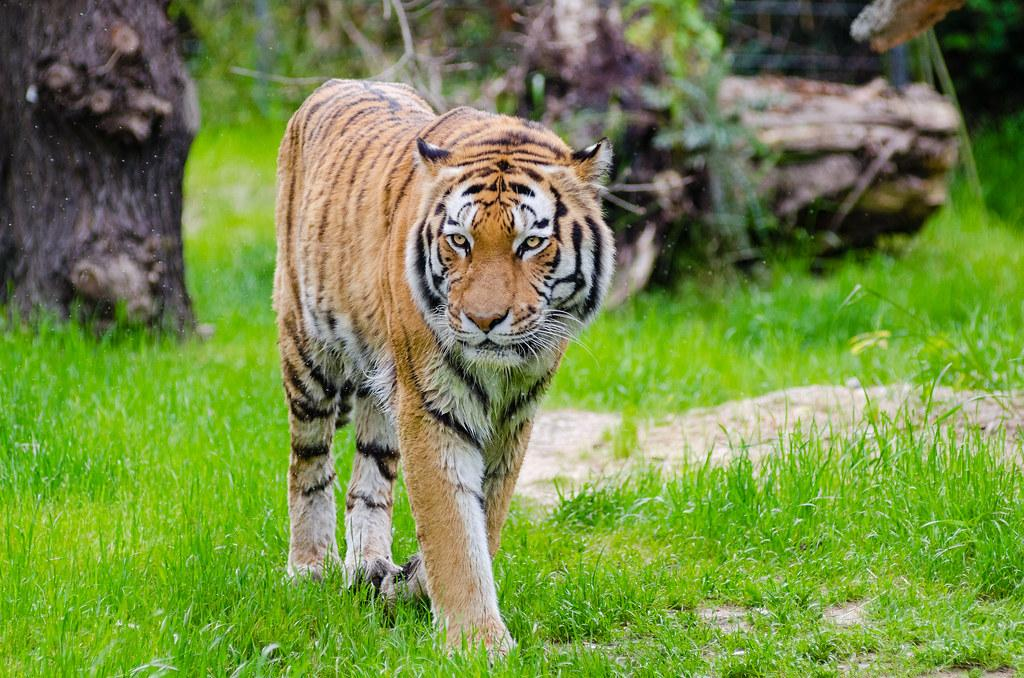tiger: (271, 76, 618, 666)
